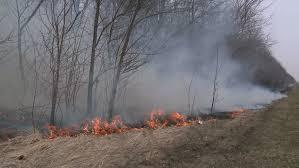fire: (44, 105, 216, 141), (227, 104, 246, 117)
